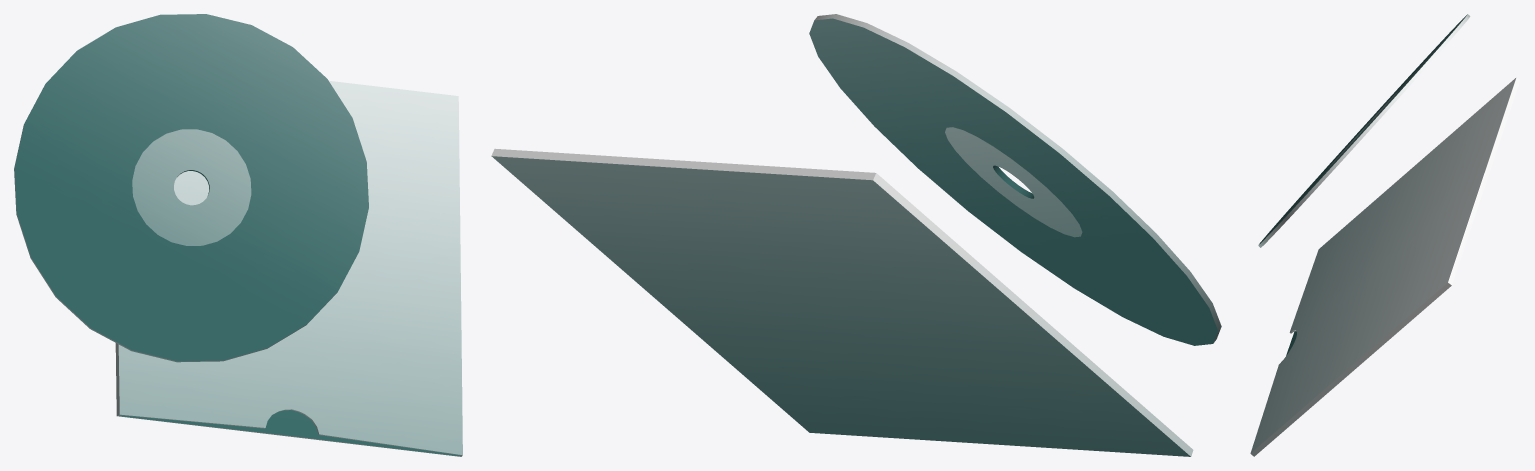
The model's file is VinylRecord.fbx.
3 views of the same model, side by side, from view 1: azimuth 30°, elevation 25°; view 2: azimuth 150°, elevation 25°; view 3: azimuth 270°, elevation 25° (orthographic). The views are drawn at different scales.
Visible parts, largest first — view 1: VinylRecordMesh; view 2: VinylRecordMesh; view 3: VinylRecordMesh.
Boxes of the visible parts, bbox=[...] form: VinylRecordMesh: bbox=[14, 14, 462, 456]; VinylRecordMesh: bbox=[491, 14, 1221, 456]; VinylRecordMesh: bbox=[1250, 14, 1520, 456].
Size of the model in its own units: 19.97 by 16.54 by 11.55.
